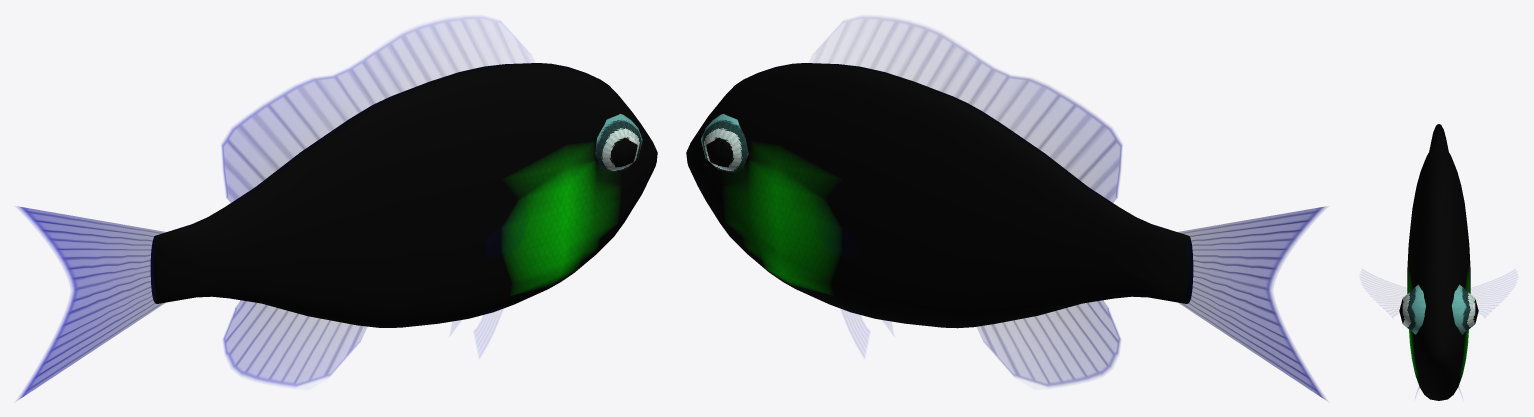
Rendered from chromis_lod1.glb.
3 renders of one model, left to right at view 1: azimuth 30°, elevation 25°; view 2: azimuth 150°, elevation 25°; view 3: azimuth 270°, elevation 25°, orthographic. The views are drawn at different scales.
Parts seen in each view (by area): view 1: Body, FinDorsal, FinCaudal, FinAnal, EyeR; view 2: Body, FinDorsal, FinCaudal, FinAnal, EyeL; view 3: Body, EyeL, EyeR.
Part boxes in pixels (x1,y1,x2,y2): Body: [150, 63, 657, 327]; FinDorsal: [222, 17, 528, 203]; FinCaudal: [16, 206, 166, 400]; FinAnal: [223, 300, 366, 386]; EyeR: [595, 114, 642, 171]; Body: [686, 63, 1193, 328]; FinDorsal: [815, 17, 1121, 203]; FinCaudal: [1177, 206, 1327, 400]; FinAnal: [977, 300, 1120, 386]; EyeL: [701, 114, 748, 172]; Body: [1407, 124, 1470, 400]; EyeL: [1451, 284, 1478, 334]; EyeR: [1399, 284, 1425, 334].
Size of the model in its own units: 1 by 0.5048 by 0.2639.
Materials: 4 (3 with a texture image).
